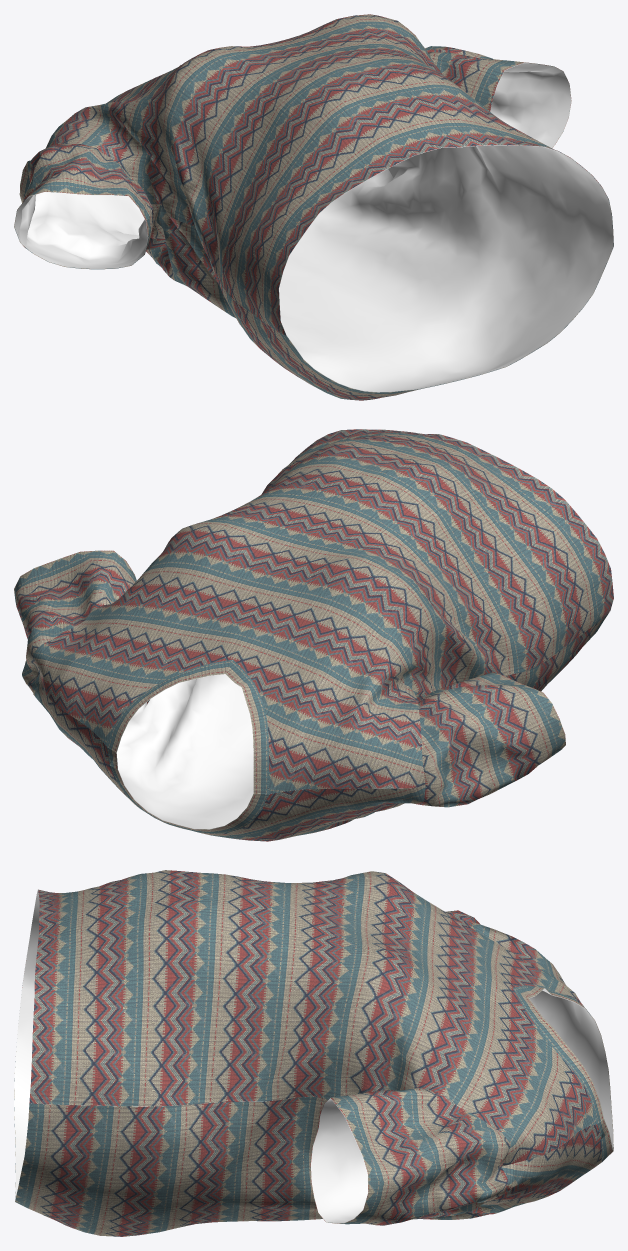
The model's file is female_obs.glb.
3 renders of one model, top to bottom at view 1: azimuth 30°, elevation 25°; view 2: azimuth 150°, elevation 25°; view 3: azimuth 270°, elevation 25°, orthographic. The views are drawn at different scales.
Parts seen in each view (by area): view 1: female_obs; view 2: female_obs; view 3: female_obs.
Part boxes in pixels (x1,y1,x2,y2): female_obs: (14, 14, 613, 400); female_obs: (14, 429, 613, 841); female_obs: (14, 870, 613, 1236).
Bounding box in the file's own units: 0.7264 × 0.3551 × 0.6188.
Materials: 2 (1 with a texture image).
